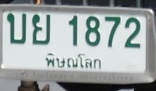txt21: (6, 12, 27, 45)
txt29: (31, 14, 51, 46)
